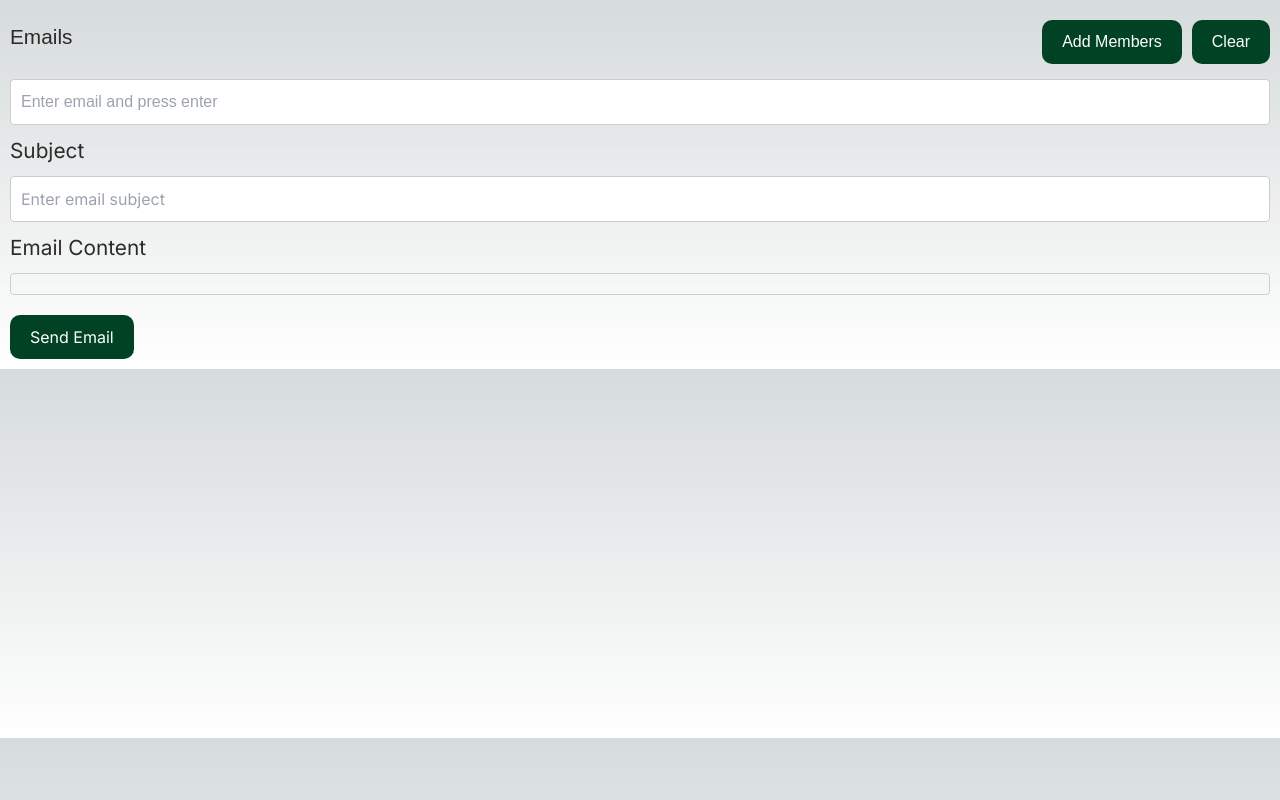
Scenario: EmailForm Component with mocked BlockNote › inserts all member emails into the email list when 'Add Members' is clicked
The width and height of the screenshot is (1280, 800).
What coordinates should you click on to do the following:
click the button "Add Members"
I would click on:
 (1112, 42)
Its box is top-left (1042, 20), bottom-right (1182, 64).
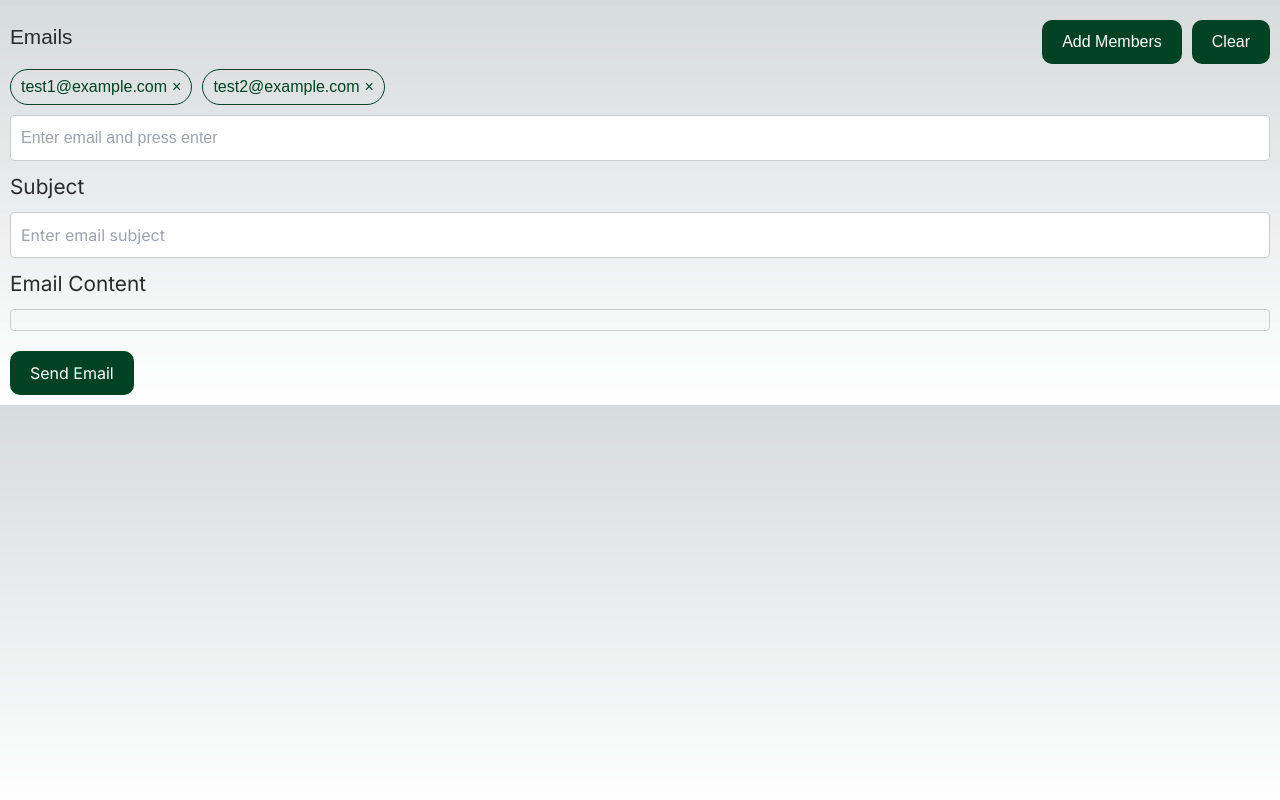
Check: the text "test1@example.com" is shown, box top-left (21, 78), bottom-right (167, 95)
Check: the text "test2@example.com" is shown, box top-left (213, 78), bottom-right (360, 95)
